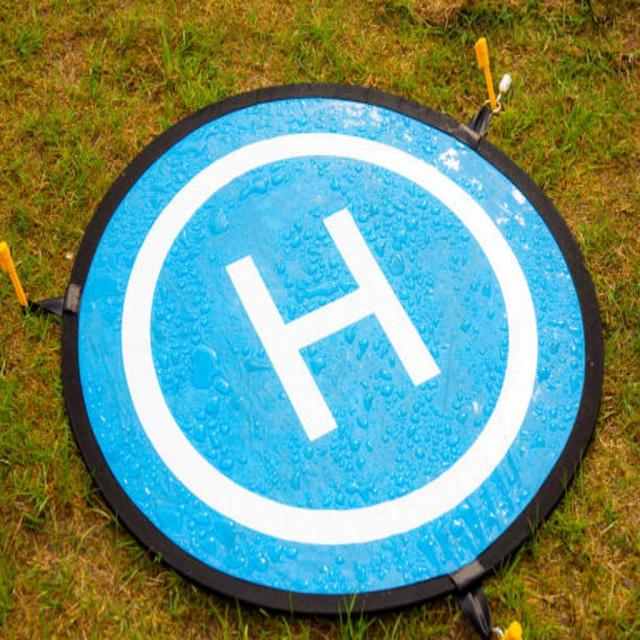helipad: (119, 130, 540, 548)
